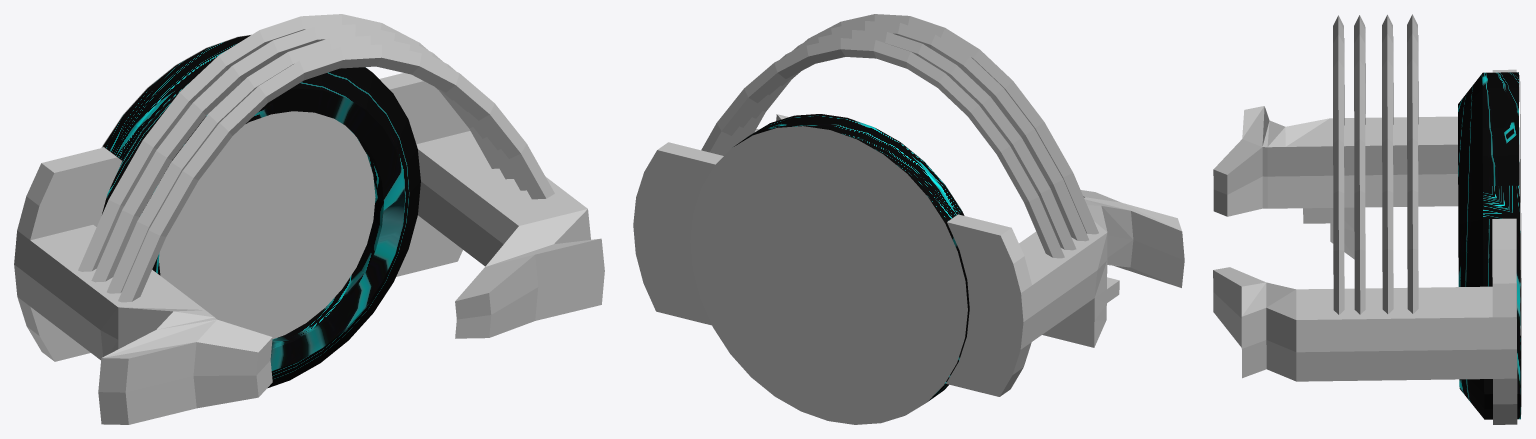
The model's file is Portail.obj.
3 renders of one model, left to right at view 1: azimuth 30°, elevation 25°; view 2: azimuth 150°, elevation 25°; view 3: azimuth 270°, elevation 25°, orthographic. The views are drawn at different scales.
Visible parts, largest first — view 1: Cylinder.002, BezierCurve_Mesh, Cylinder_Cylinder.001, Cylinder.004, Cylinder.001_Cylinder.000, Cylinder.003; view 2: Cylinder.003, Cylinder_Cylinder.001, BezierCurve_Mesh, Cylinder.004, Cylinder.001_Cylinder.000; view 3: Cylinder.004, Cylinder_Cylinder.001, BezierCurve_Mesh, Cylinder.001_Cylinder.000, Cylinder.003.
Part boxes in pixels (bbox=[...]): Cylinder.002: bbox=[159, 111, 375, 339]; BezierCurve_Mesh: bbox=[78, 14, 554, 302]; Cylinder_Cylinder.001: bbox=[14, 147, 272, 424]; Cylinder.004: bbox=[379, 73, 604, 338]; Cylinder.001_Cylinder.000: bbox=[102, 35, 420, 388]; Cylinder.003: bbox=[93, 34, 251, 226]; Cylinder.003: bbox=[690, 126, 967, 424]; Cylinder_Cylinder.001: bbox=[946, 190, 1184, 396]; BezierCurve_Mesh: bbox=[701, 14, 1098, 258]; Cylinder.004: bbox=[633, 114, 788, 325]; Cylinder.001_Cylinder.000: bbox=[734, 114, 969, 401]; Cylinder.004: bbox=[1213, 218, 1517, 424]; Cylinder_Cylinder.001: bbox=[1213, 69, 1516, 259]; BezierCurve_Mesh: bbox=[1333, 14, 1418, 314]; Cylinder.001_Cylinder.000: bbox=[1458, 72, 1520, 419]; Cylinder.003: bbox=[1520, 81, 1521, 414].
Bounding box in the file's own units: 48.69 × 36.76 × 27.63.
